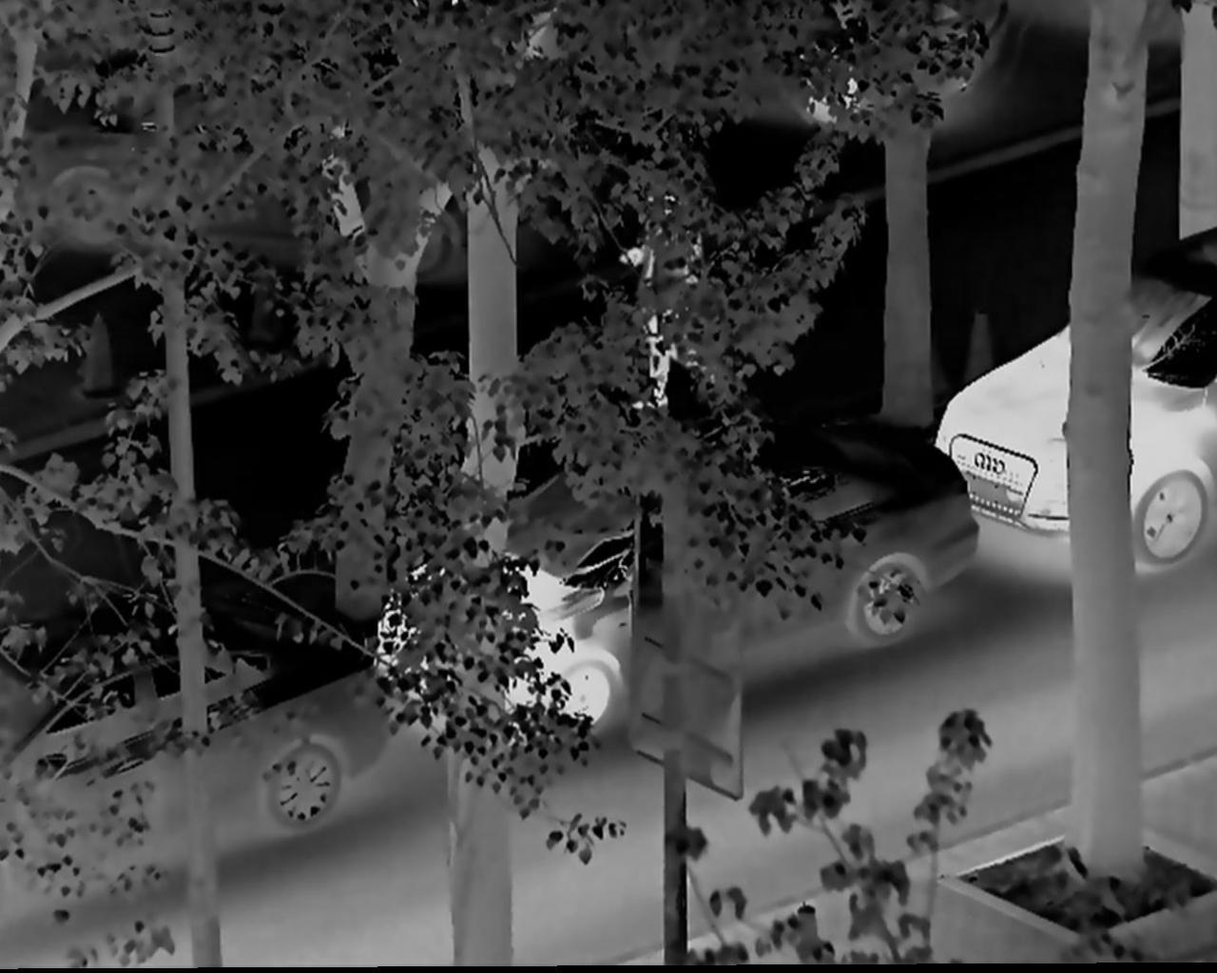person: (622, 173, 731, 425)
